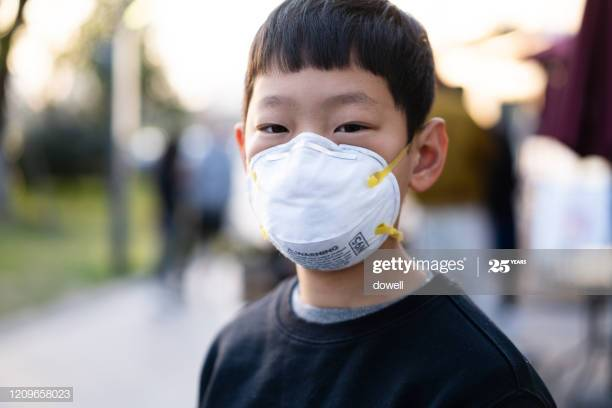n95: (242, 132, 408, 276)
